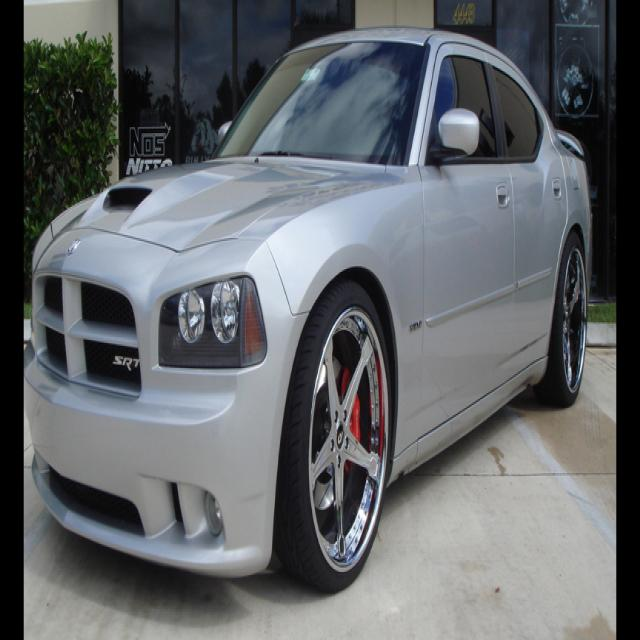car: (23, 26, 591, 594)
